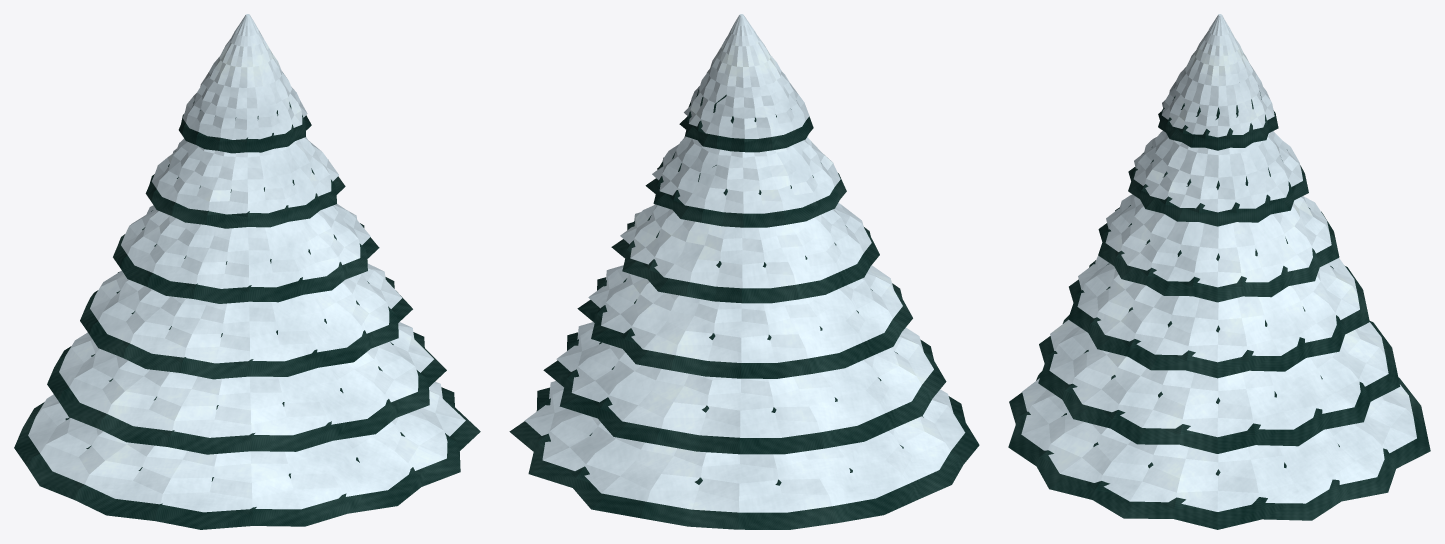
Rendered from ThirdRoom_CanyonPine.fbx.
The picture shows the model from 3 angles, left to right: view 1: azimuth 30°, elevation 25°; view 2: azimuth 150°, elevation 25°; view 3: azimuth 270°, elevation 25°; orthographic projection. The views are drawn at different scales.
Parts seen in each view (by area): view 1: WO_ThirdRoom_CanyonPine_LOD0; view 2: WO_ThirdRoom_CanyonPine_LOD0; view 3: WO_ThirdRoom_CanyonPine_LOD0.
Boxes of the visible parts, left/top/right/bottom form: WO_ThirdRoom_CanyonPine_LOD0: left=14, top=14, right=480, bottom=529; WO_ThirdRoom_CanyonPine_LOD0: left=509, top=14, right=979, bottom=529; WO_ThirdRoom_CanyonPine_LOD0: left=1008, top=14, right=1430, bottom=529.
Size of what is drawn, in the model's own units: 5.4 by 6 by 4.88.
